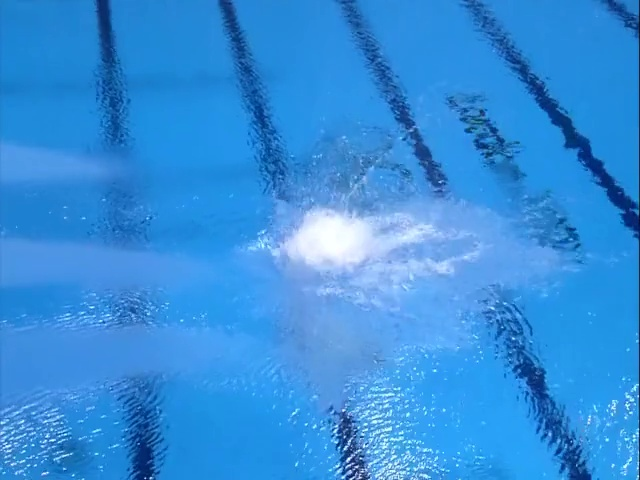splash: (250, 125, 485, 317)
